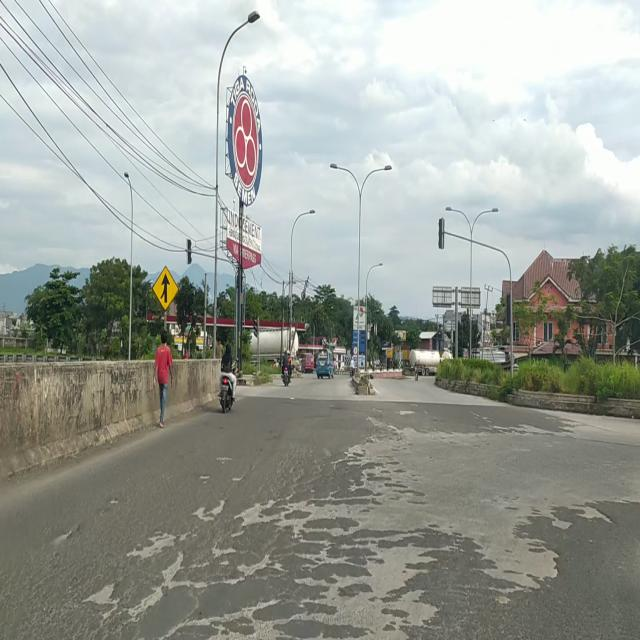Drain Hole: (79, 482, 446, 636)
